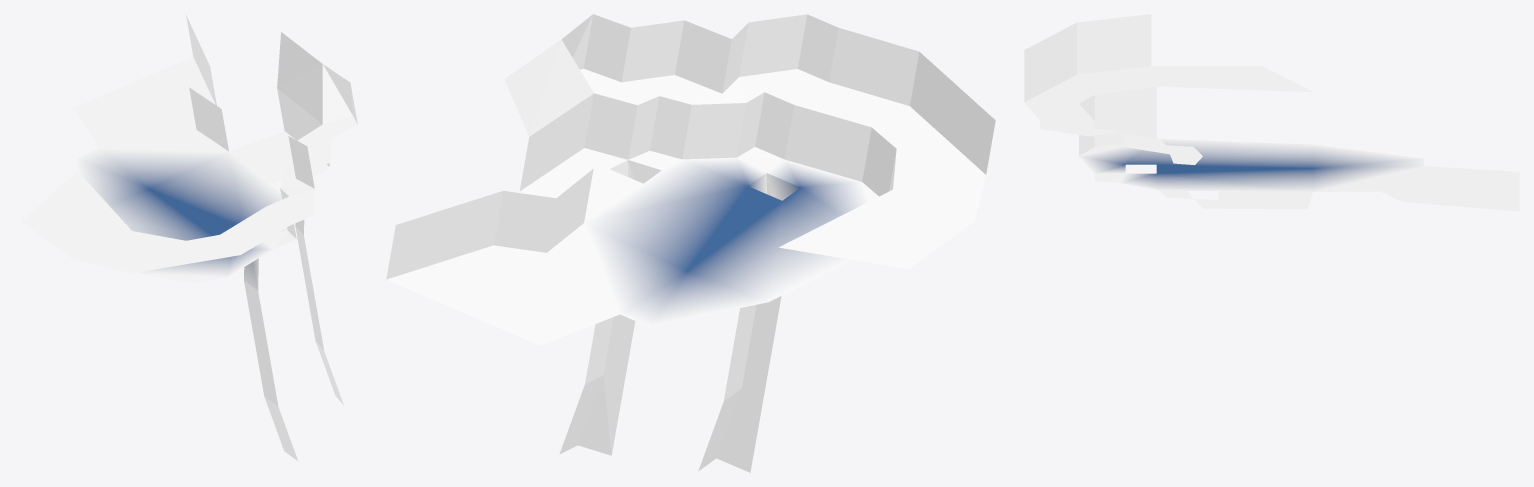
3 views of the same model, side by side, from view 1: azimuth 30°, elevation 25°; view 2: azimuth 150°, elevation 25°; view 3: azimuth 270°, elevation 25° (orthographic). The views are drawn at different scales.
Visible parts, largest first — view 1: object0; view 2: object0; view 3: object0.
Boxes of the visible parts, left/top/right/bottom form: object0: left=22, top=15, right=357, bottom=460; object0: left=386, top=14, right=995, bottom=472; object0: left=1024, top=14, right=1519, bottom=211.
Size of the model in its own units: 15745 by 17104 by 20216.
